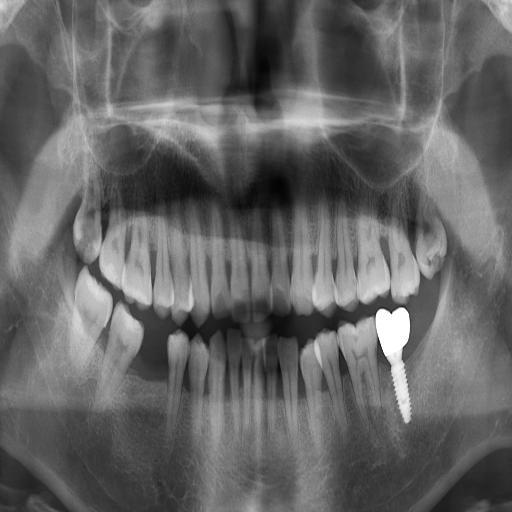Wisdom teeth: (70, 267, 112, 369), (74, 179, 101, 263), (416, 210, 446, 278)
